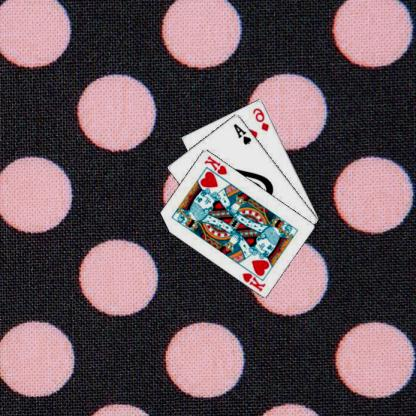6D: (252, 105, 272, 132)
AS: (233, 121, 254, 146)
KH: (203, 152, 230, 176), (241, 270, 269, 292)
